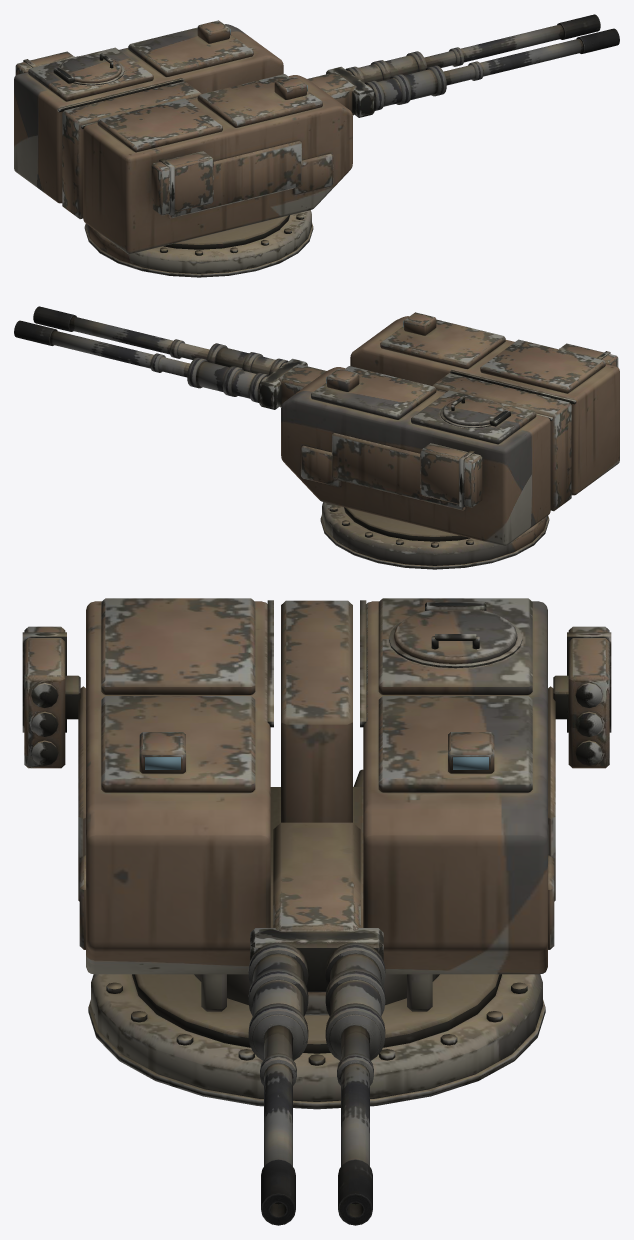
The model's file is turret_kit_t1_rock.glb.
3 views of the same model, one above another, from view 1: azimuth 30°, elevation 25°; view 2: azimuth 150°, elevation 25°; view 3: azimuth 270°, elevation 25° (orthographic). The views are drawn at different scales.
Parts seen in each view (by area): view 1: turret_twin_t1, guns, pods; view 2: turret_twin_t1, guns, pods; view 3: turret_twin_t1, guns, pods.
Boxes of the visible parts, box(x1,y1,x2,y2) form: turret_twin_t1: box(14, 20, 352, 277); guns: box(308, 14, 619, 117); pods: box(15, 51, 213, 215); turret_twin_t1: box(281, 312, 619, 569); guns: box(14, 306, 325, 409); pods: box(420, 343, 618, 507); turret_twin_t1: box(78, 598, 555, 1109); guns: box(248, 822, 385, 1225); pods: box(22, 626, 611, 768).
Size of the model in its own units: 2.41 by 0.695 by 1.15.
4 materials, 3 textured.
